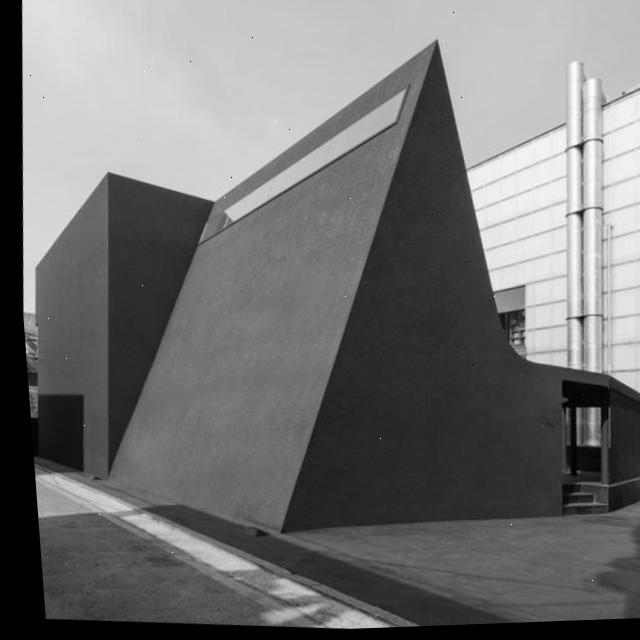building: (2, 3, 640, 568), (436, 62, 640, 509)
